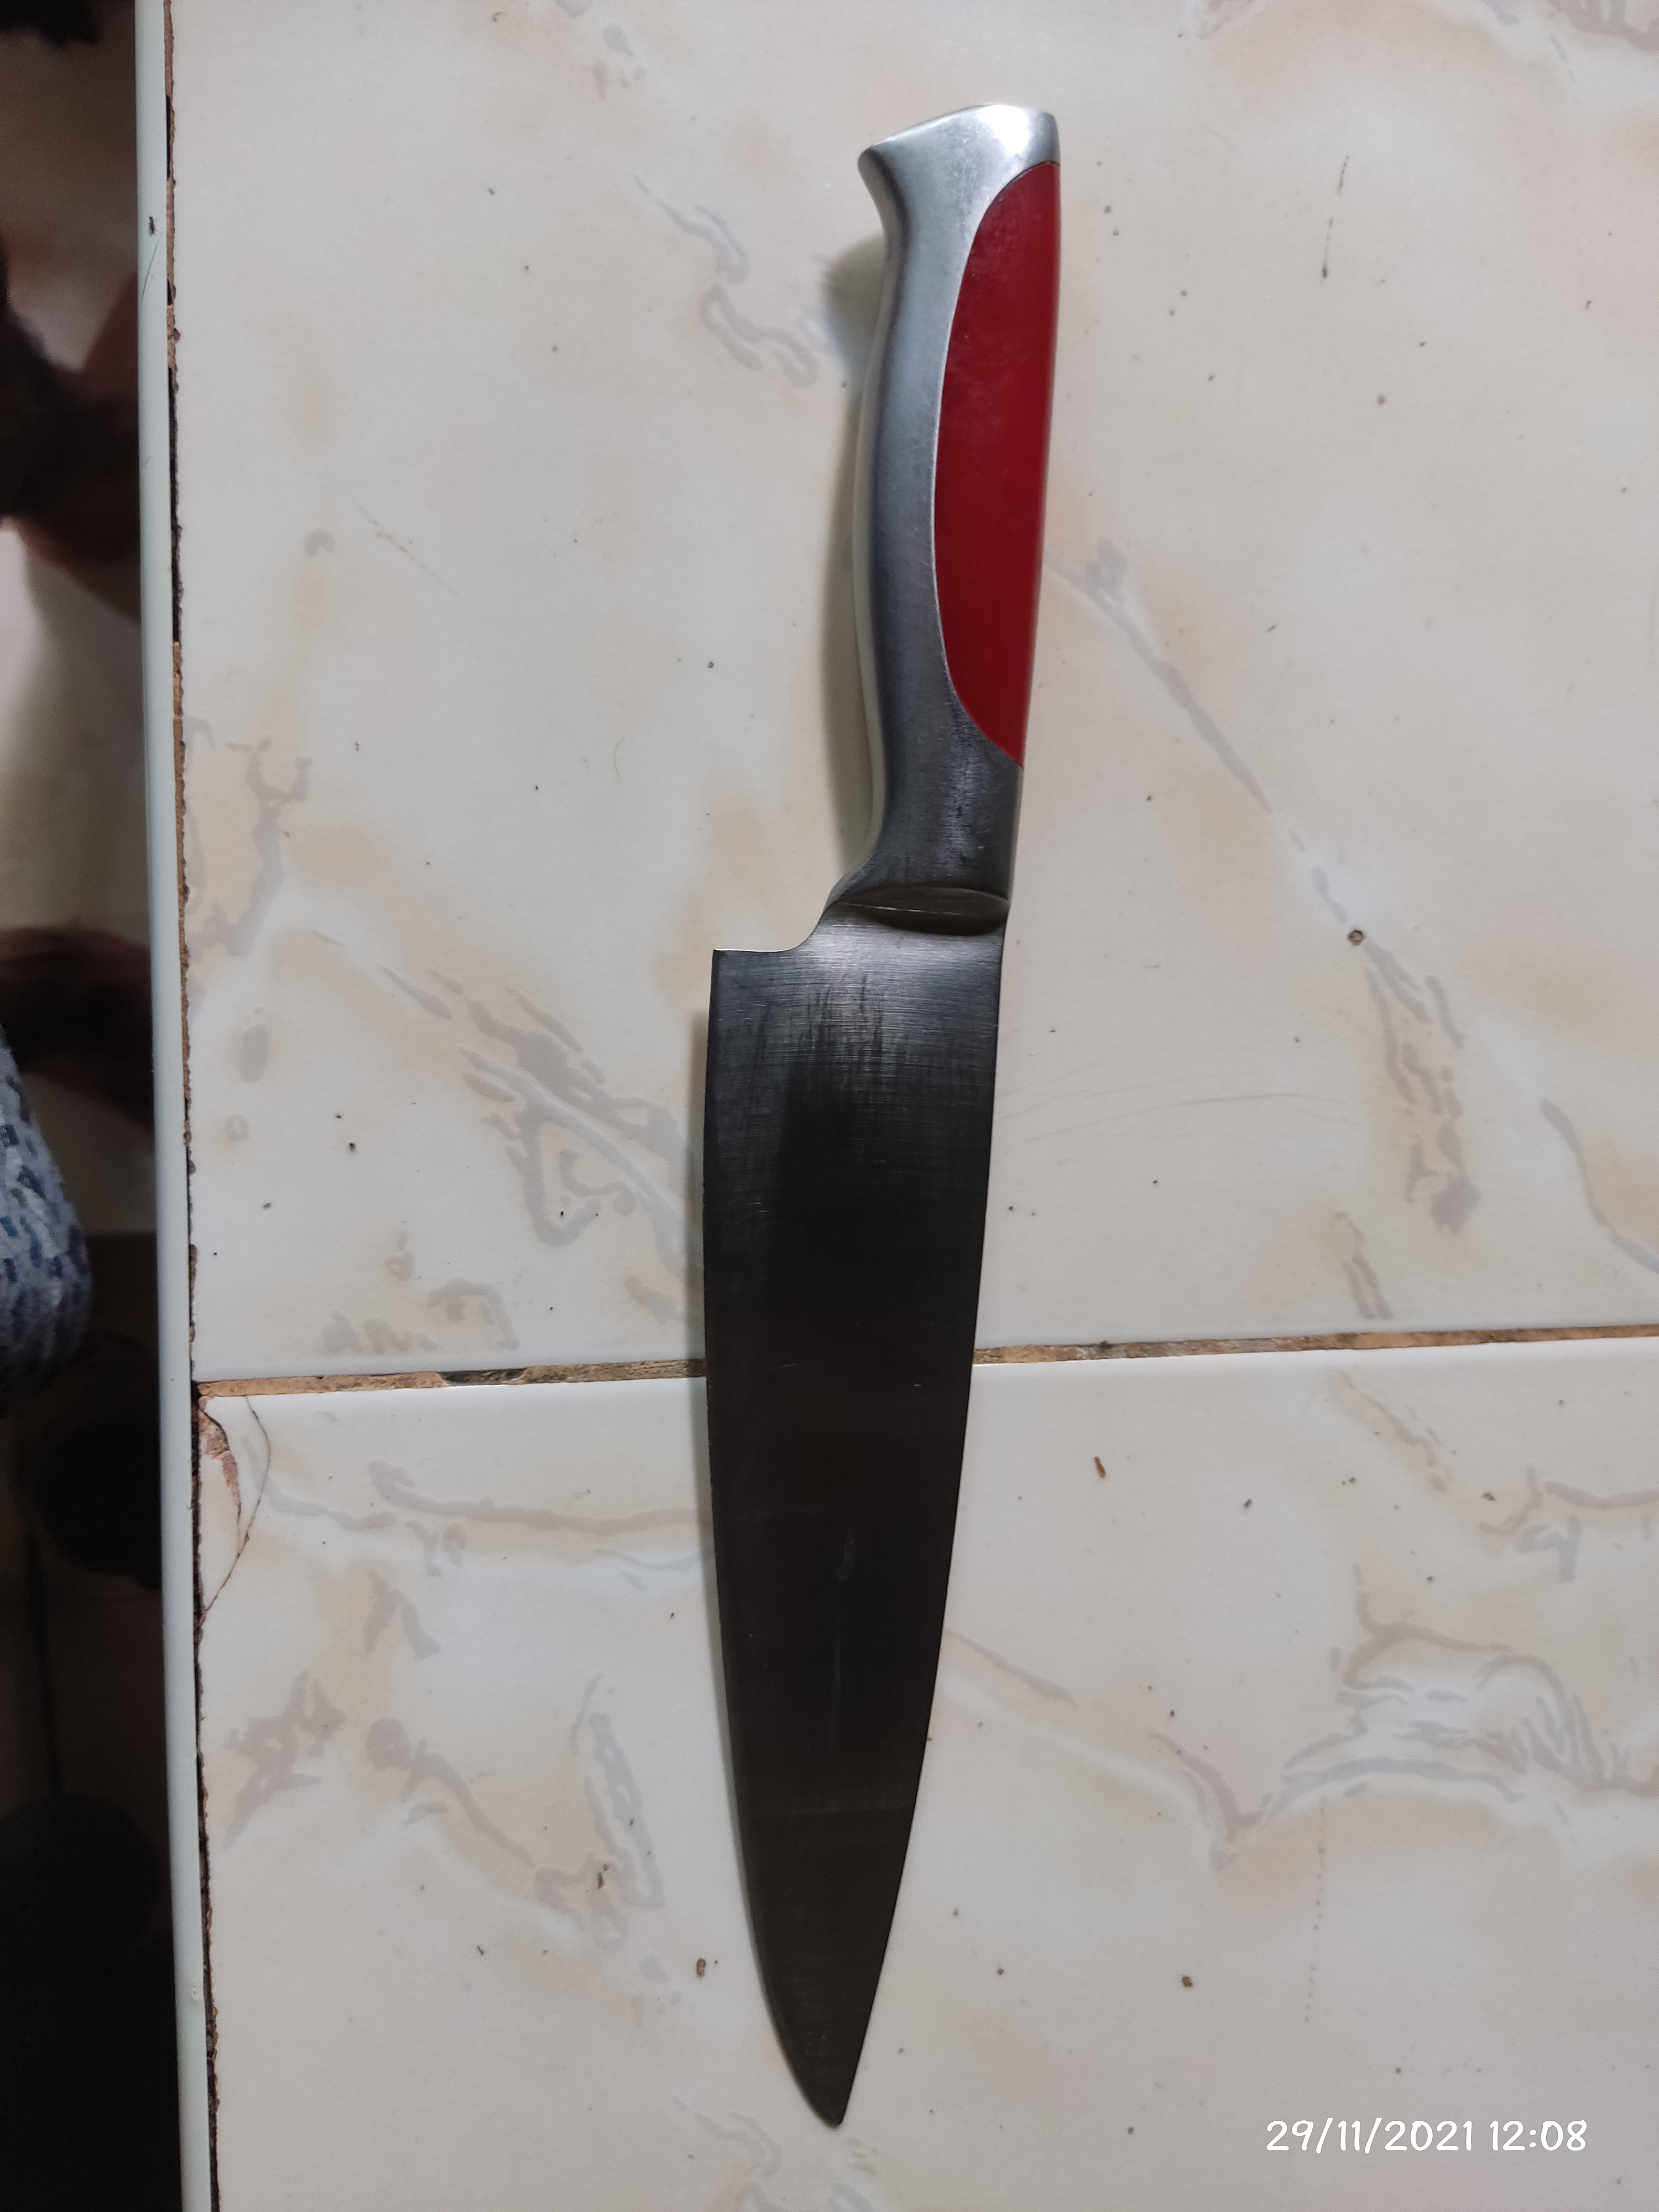knife: (702, 111, 1070, 2127)
